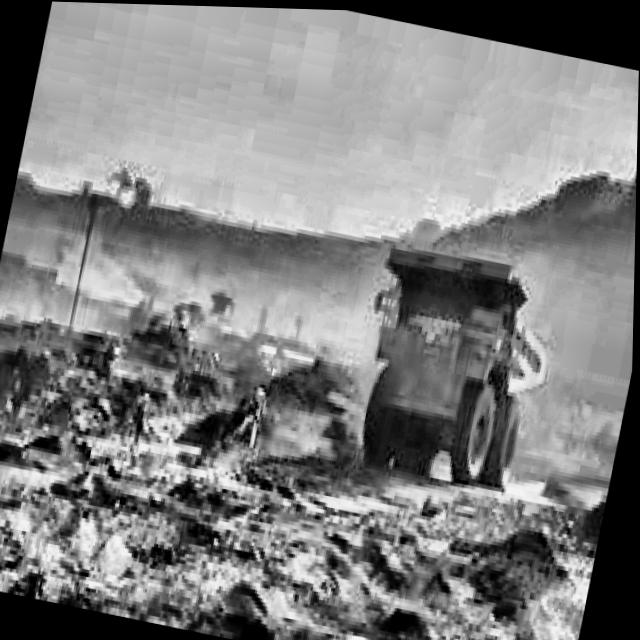dump_truck: (337, 223, 569, 508)
